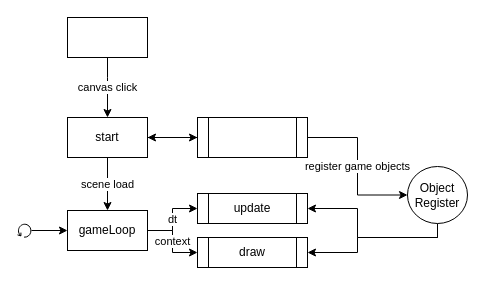
This 485x285 diagram has some shape labels left out. The shapes that lost their labels are listed below. From the top down, each one's box as (x1, y1, x2, y2) in pixels, then its label:
(66, 16, 148, 58): init
(196, 116, 308, 158): root scene init
